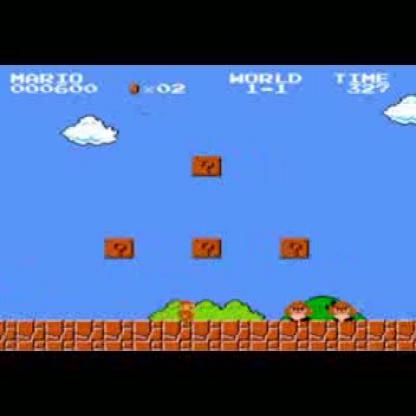Goomba: (281, 296, 313, 323), (328, 296, 359, 323)
